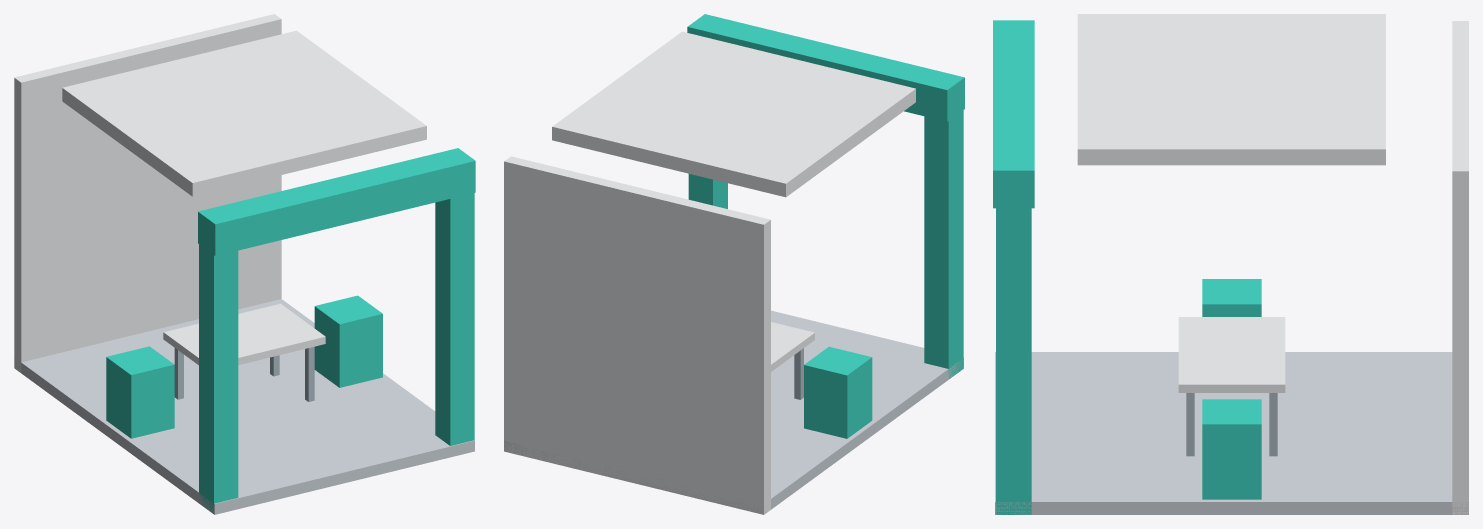
The picture shows the model from 3 angles, left to right: view 1: azimuth 30°, elevation 25°; view 2: azimuth 150°, elevation 25°; view 3: azimuth 270°, elevation 25°; orthographic projection. The views are drawn at different scales.
Parts seen in each view (by area): view 1: Exhibition Booth Concept; view 2: Exhibition Booth Concept; view 3: Exhibition Booth Concept.
Part boxes in pixels (box(x1,y1,x2,y2)): Exhibition Booth Concept: box(14, 14, 475, 514); Exhibition Booth Concept: box(504, 14, 964, 514); Exhibition Booth Concept: box(993, 14, 1468, 514).
Bounding box in the file's own units: 3 × 3.34 × 4.02.
